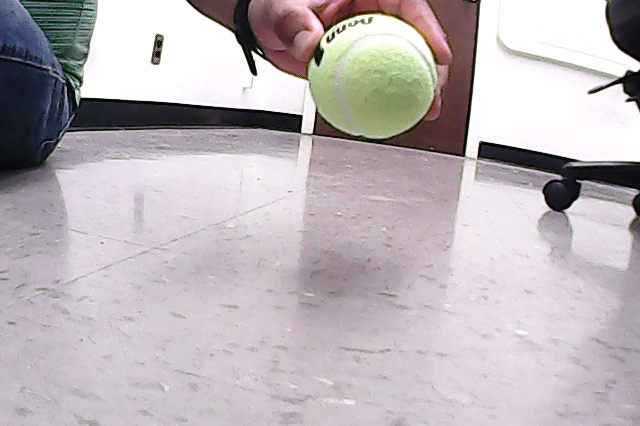ball: (309, 15, 438, 141)
